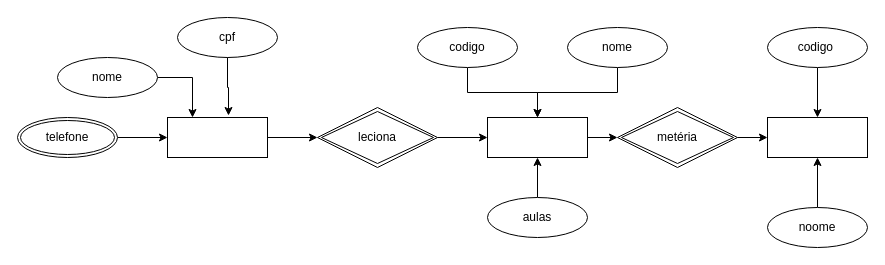
Some shapes in this 885 by 265 pixel diagram are drawn without their labels. The shapes that lost their labels are listed below. From the top down, each one's centre as x and y in pixels, then its label:
At (x=217, y=137): "professor".
At (x=537, y=137): "disciplina".
At (x=817, y=137): "curso".
